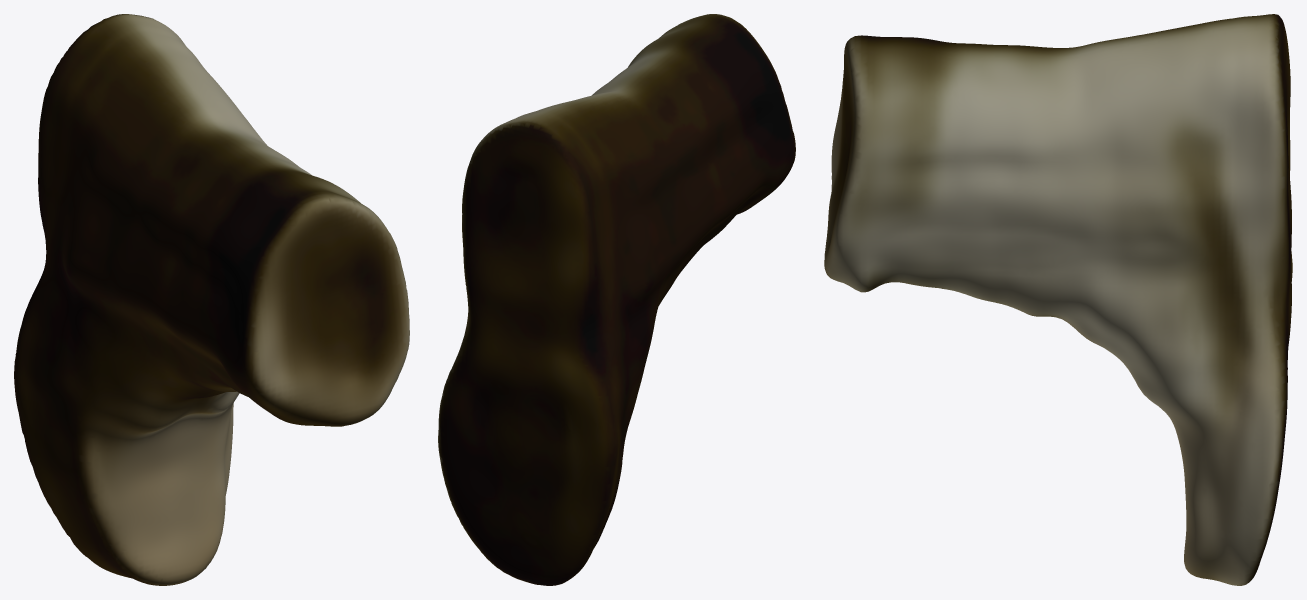
File: shoe1.glb
The picture shows the model from 3 angles, left to right: view 1: azimuth 30°, elevation 25°; view 2: azimuth 150°, elevation 25°; view 3: azimuth 270°, elevation 25°; orthographic projection. The views are drawn at different scales.
Size of the model in its own units: 0.3951 by 0.9994 by 0.7714.
